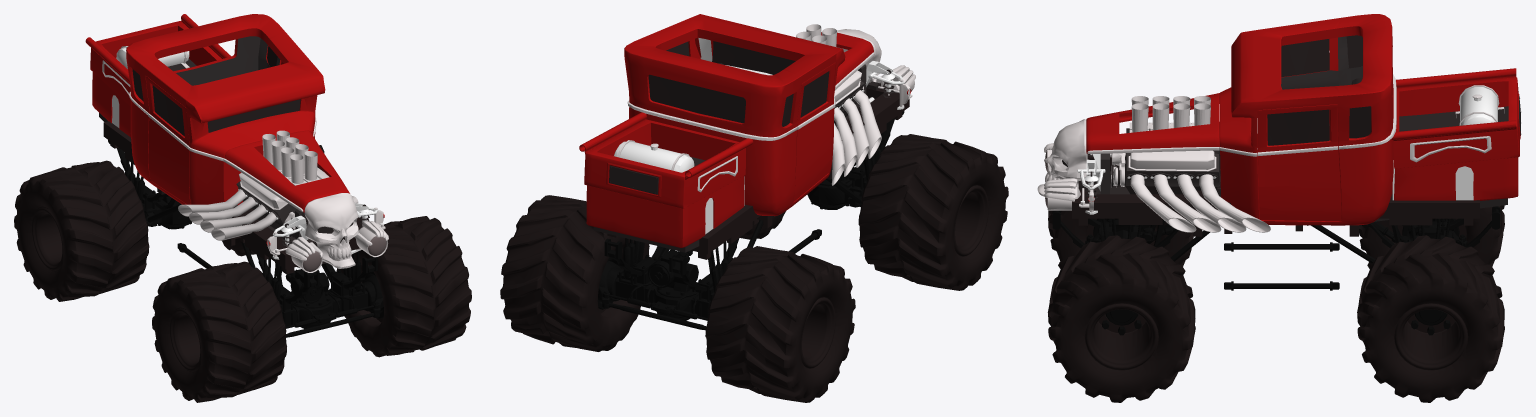
File: boneshaker.glb
The picture shows the model from 3 angles, left to right: view 1: azimuth 30°, elevation 25°; view 2: azimuth 150°, elevation 25°; view 3: azimuth 270°, elevation 25°; orthographic projection. The views are drawn at different scales.
Visible parts, largest first — view 1: Object_8, Wheel_FR, Wheel_RR, Wheel_FL (×2), Object_6, Object_13, Object_12, Object_4, Object_7, Object_5, Object_14, Object_11 (+3 smaller); view 2: Object_8, Wheel_RR, Wheel_FR, Wheel_RL (×2), Object_14, Object_6, Object_7, Object_11, Object_5, Object_9, Object_12, Object_13 (+1 smaller); view 3: Object_8, Wheel_FL (×2), Wheel_RL (×2), Object_6, Object_5, Object_7, Object_14, Object_4, Object_10, Wheel_RR, Object_12, Object_13 (+4 smaller).
Boxes of the visible parts, x1,y1,x2,y2 form: Object_8: [85, 14, 384, 245]; Wheel_FR: [152, 261, 286, 402]; Wheel_RR: [14, 160, 149, 301]; Wheel_FL (×2): [336, 216, 471, 357]; Object_6: [102, 46, 388, 272]; Object_13: [241, 241, 377, 337]; Object_12: [43, 145, 323, 272]; Object_4: [176, 36, 302, 238]; Object_7: [132, 46, 300, 136]; Object_5: [103, 121, 368, 274]; Object_14: [108, 140, 300, 268]; Object_11: [162, 216, 439, 301]; Object_8: [579, 14, 911, 247]; Wheel_RR: [705, 246, 855, 402]; Wheel_FR: [858, 134, 1008, 290]; Wheel_RL (×2): [500, 196, 649, 351]; Object_14: [604, 220, 821, 330]; Object_6: [617, 24, 915, 192]; Object_7: [648, 41, 829, 126]; Object_11: [863, 136, 972, 267]; Object_5: [607, 88, 909, 259]; Object_9: [614, 38, 904, 172]; Object_12: [531, 195, 849, 294]; Object_13: [807, 111, 904, 209]; Object_8: [1086, 14, 1520, 225]; Wheel_FL (×2): [1047, 235, 1195, 402]; Wheel_RL (×2): [1359, 235, 1504, 402]; Object_6: [1037, 74, 1504, 232]; Object_5: [1072, 154, 1479, 236]; Object_7: [1267, 35, 1371, 145]; Object_14: [1224, 206, 1500, 290]; Object_4: [1100, 36, 1362, 194]; Object_10: [1062, 78, 1521, 221]; Wheel_RR: [1359, 205, 1504, 268]; Object_12: [1357, 227, 1476, 341]; Object_13: [1052, 210, 1209, 261].
Size of the model in its own units: 4.12 by 3.8 by 5.86.
